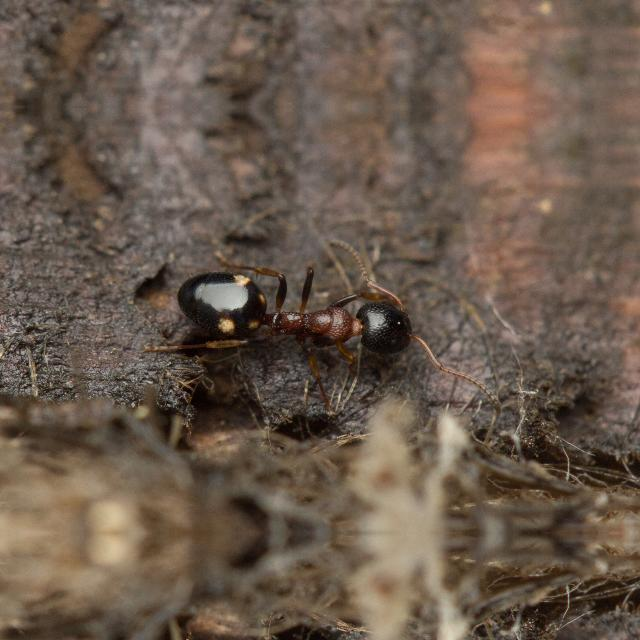Dolichoderus: (144, 261, 436, 383)
